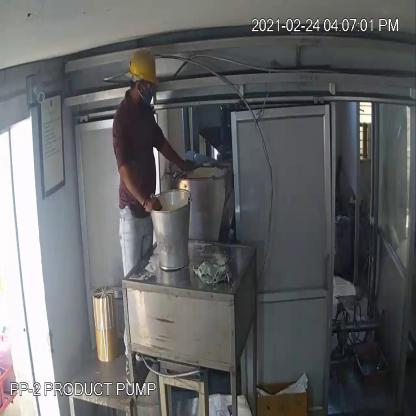helmet: (124, 43, 165, 96)
